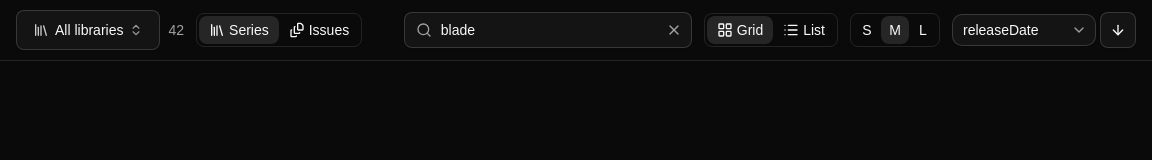
Test: Toolbar — search field › clears the term and drops the filter immediately when the × is clicked
The image size is (1152, 160).
Expected: the field with placeholder "Filter these results…" holds "blade", [404,12,692,48]
Click the button named "clear search": (674, 30) [660,16,688,44]
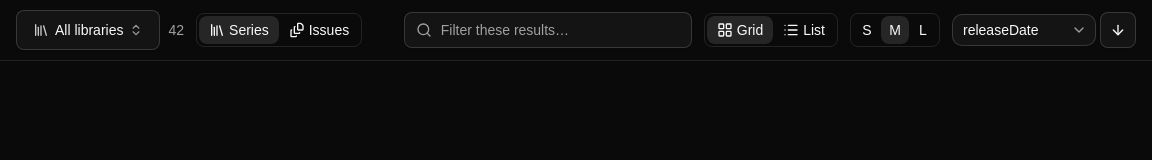
Expected: the field with placeholder "Filter these results…" is empty, [404,12,692,48]
